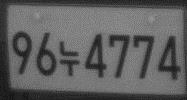4: (83, 31, 109, 78), (157, 35, 182, 79)
6: (35, 31, 57, 77)
7: (108, 33, 131, 80), (132, 34, 155, 79)
9: (11, 31, 33, 75)
누: (58, 39, 81, 77)
